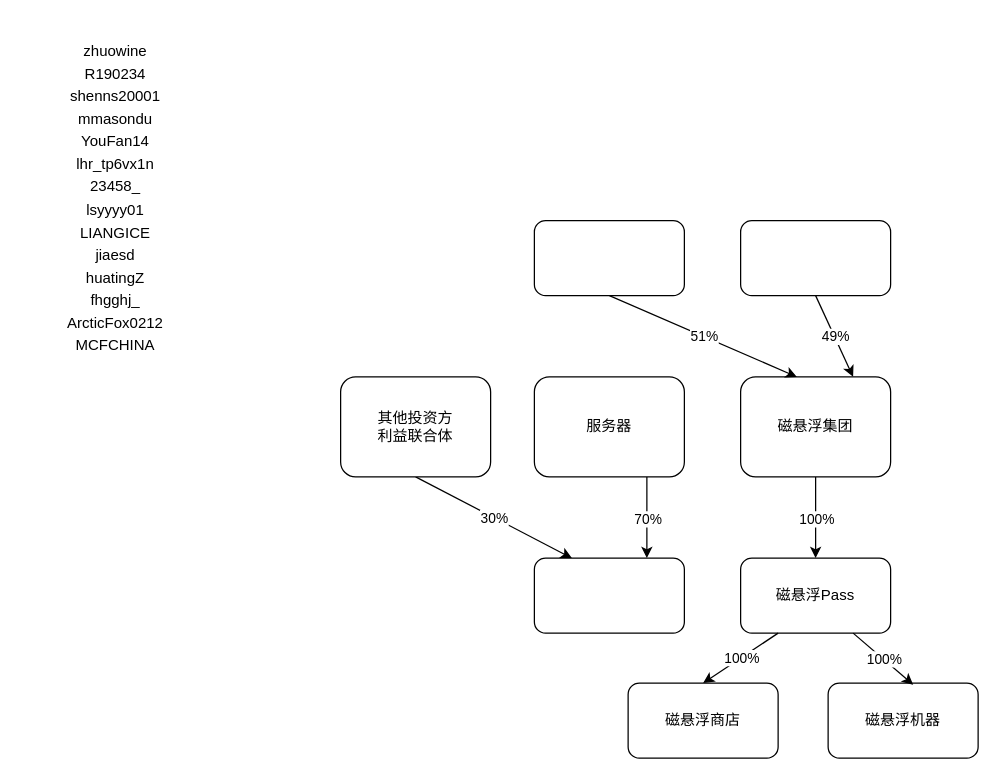
Some shapes in this 1000 by 780 pixel diagram are drawn without their labels. The shapes that lost their labels are listed below. From the top down, each one's box as (x1, y1, x2, y2) in pixels, then its label:
(533, 219, 684, 296): zhuowine
(739, 219, 891, 296): lsyyyy01
(533, 557, 684, 633): 磁悬浮路网管理
